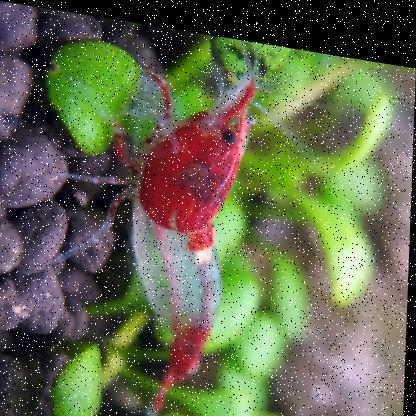shrimp: (75, 34, 265, 415)
